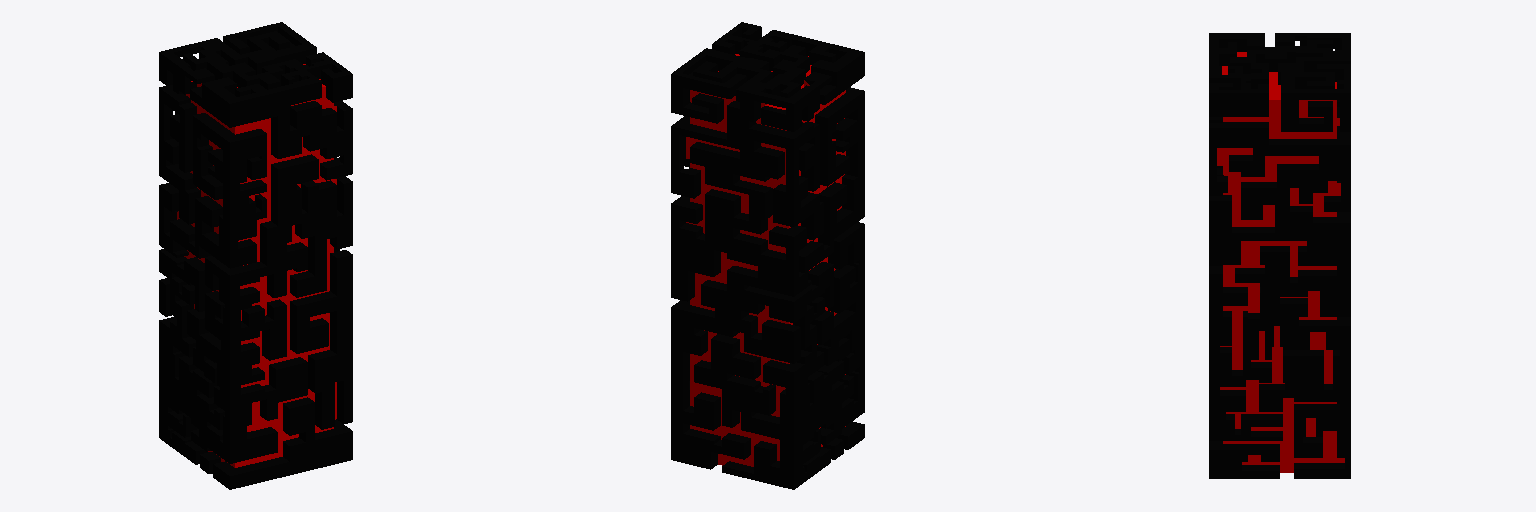
File: Piece2.obj
3 renders of one model, left to right at view 1: azimuth 30°, elevation 25°; view 2: azimuth 150°, elevation 25°; view 3: azimuth 270°, elevation 25°, orthographic.
Visible parts, largest first — view 1: Piece2; view 2: Piece2; view 3: Piece2.
Boxes of the visible parts, x1,y1,x2,y2 form: Piece2: [159, 22, 352, 489]; Piece2: [671, 22, 864, 489]; Piece2: [1209, 33, 1350, 478].
Bounding box in the file's own units: 30 × 90 × 30.